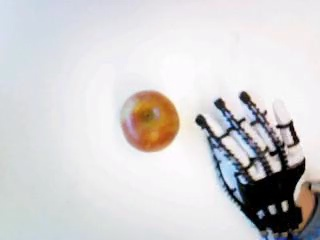apple: (120, 89, 179, 150)
hand: (198, 92, 305, 236)
